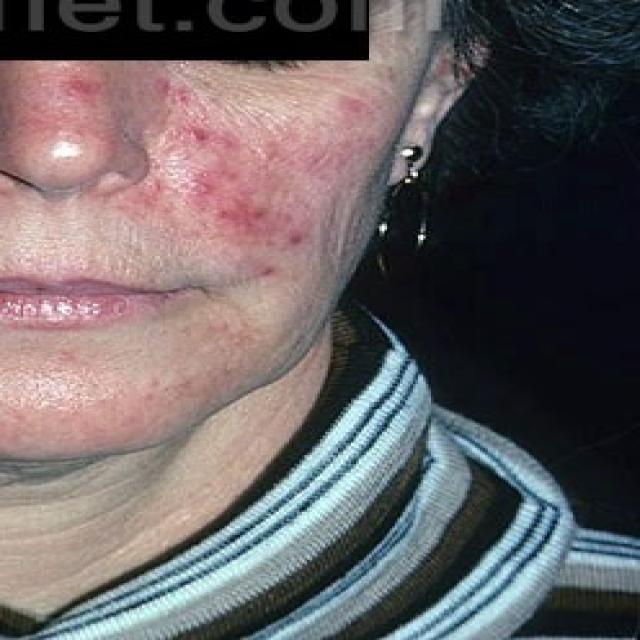Rosacea: (166, 121, 297, 252)
